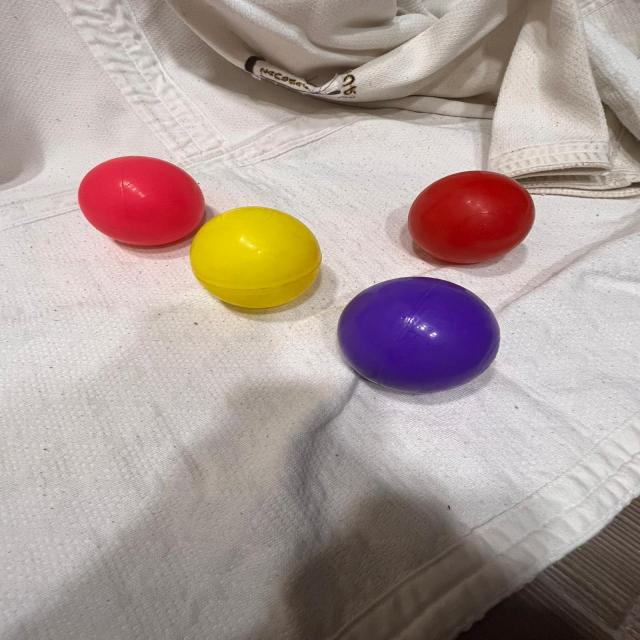ball: (332, 274, 501, 394), (185, 204, 325, 311), (402, 169, 537, 266), (75, 154, 209, 247)
